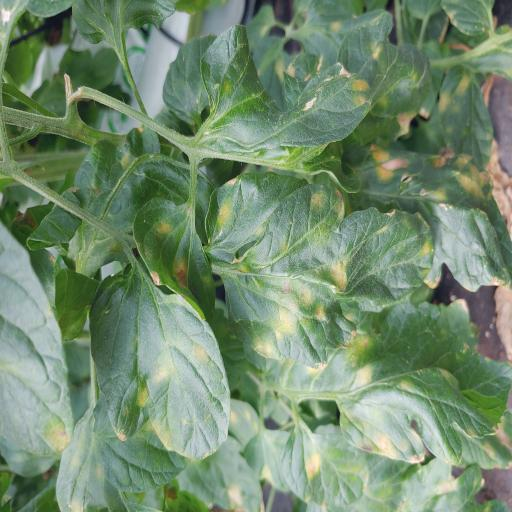Leaf Mold: (205, 170, 435, 370), (241, 297, 512, 461), (89, 262, 231, 460), (200, 24, 372, 152), (280, 425, 370, 507)
